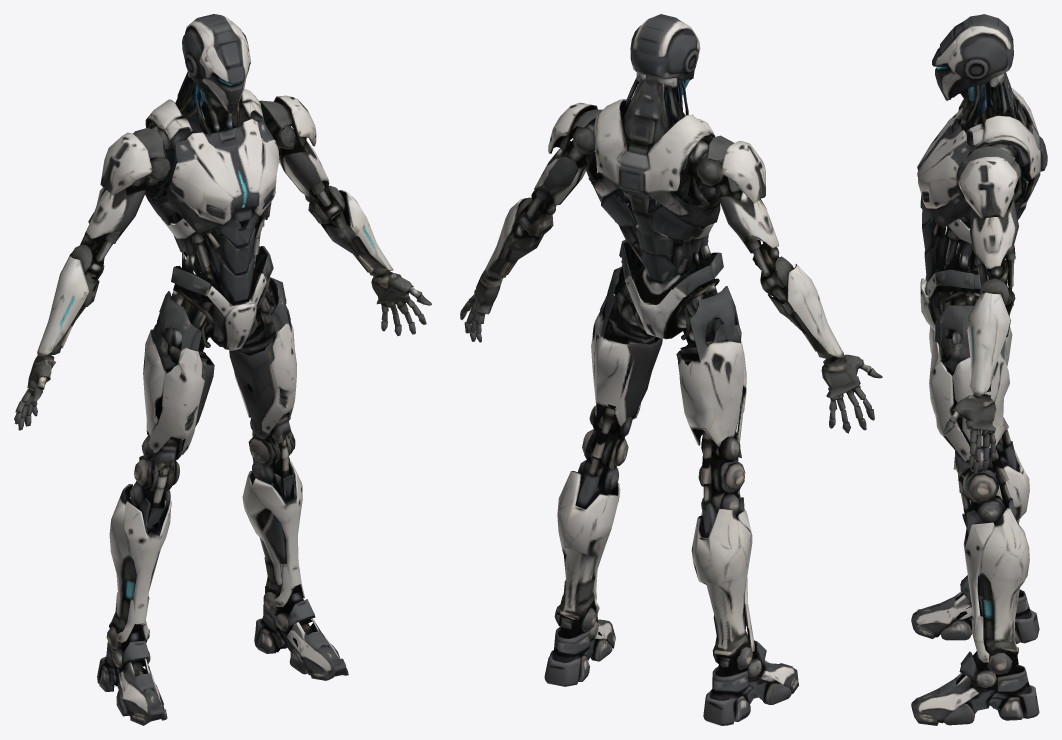
The picture shows the model from 3 angles, left to right: view 1: azimuth 30°, elevation 25°; view 2: azimuth 150°, elevation 25°; view 3: azimuth 270°, elevation 25°; orthographic projection.
Visible parts, largest first — view 1: geometry_0; view 2: geometry_0; view 3: geometry_0.
Boxes of the visible parts, <box> form: geometry_0: <box>14,14,431,725</box>; geometry_0: <box>460,14,882,725</box>; geometry_0: <box>911,14,1047,725</box>.
Bounding box in the file's own units: 0.6201 × 0.9507 × 0.1792.
Materials: 1 (1 with a texture image).
